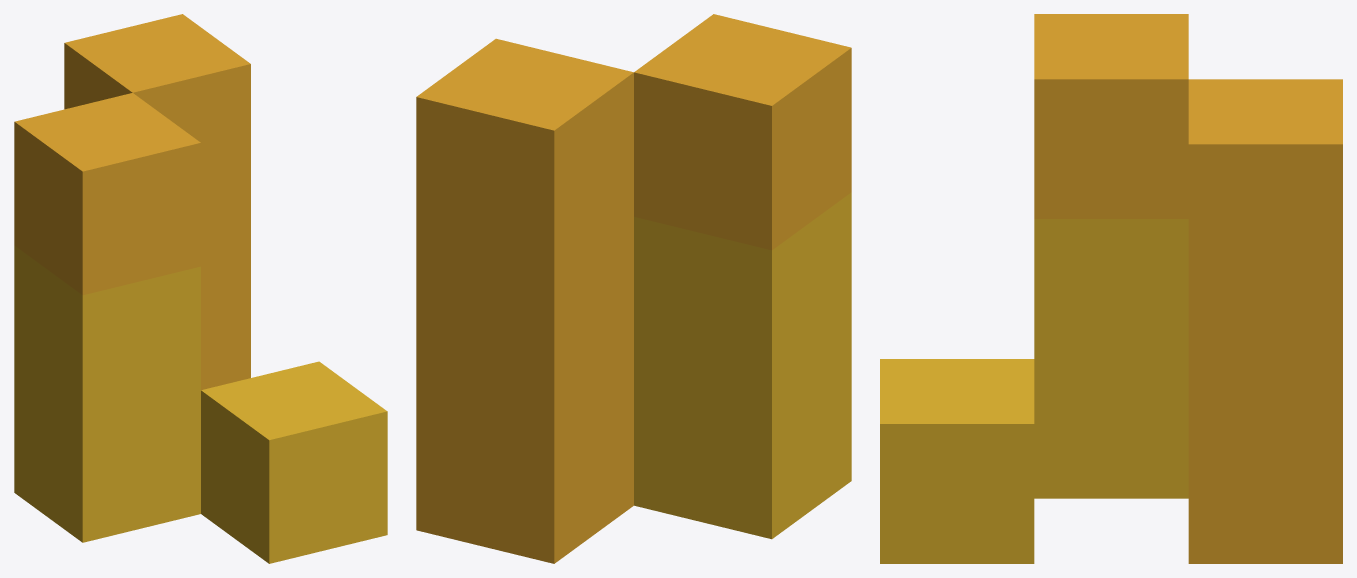
Rendered from tile-21.obj.
3 views of the same model, side by side, from view 1: azimuth 30°, elevation 25°; view 2: azimuth 150°, elevation 25°; view 3: azimuth 270°, elevation 25° (orthographic). The views are drawn at different scales.
Bounding box in the file's own units: 0.2 × 0.3 × 0.3.
1 material, 1 textured.
